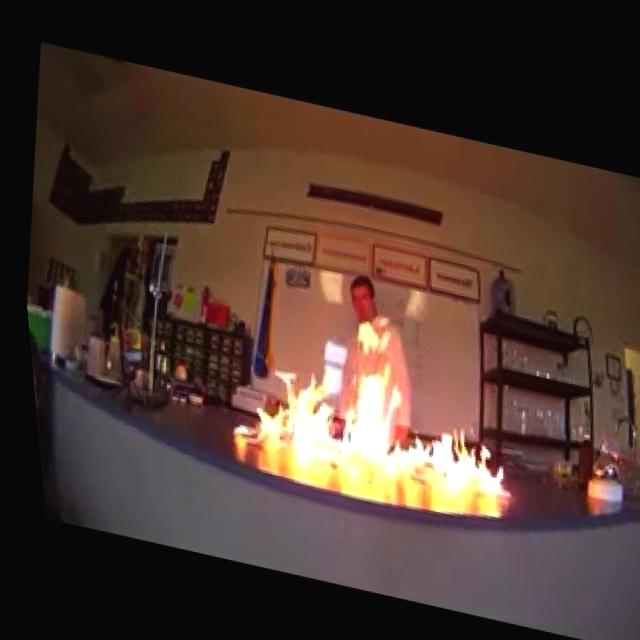helmet: (209, 274, 534, 499)
